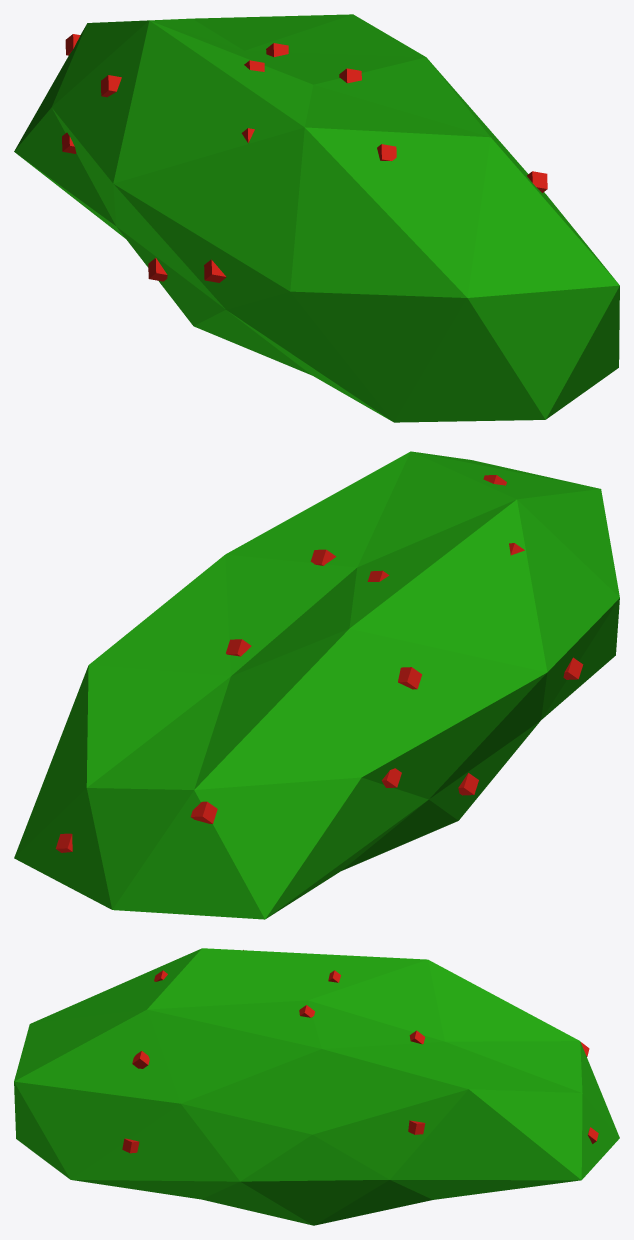
File: Bush_2.fbx
The picture shows the model from 3 angles, top to bottom: view 1: azimuth 30°, elevation 25°; view 2: azimuth 150°, elevation 25°; view 3: azimuth 270°, elevation 25°; orthographic projection. The views are drawn at different scales.
Parts seen in each view (by area): view 1: Bush2_mesh; view 2: Bush2_mesh; view 3: Bush2_mesh.
Part boxes in pixels (<box>): Bush2_mesh: <box>14,14,619,422</box>; Bush2_mesh: <box>14,451,619,919</box>; Bush2_mesh: <box>14,948,619,1225</box>.
Size of the model in its own units: 165 by 120 by 328.
